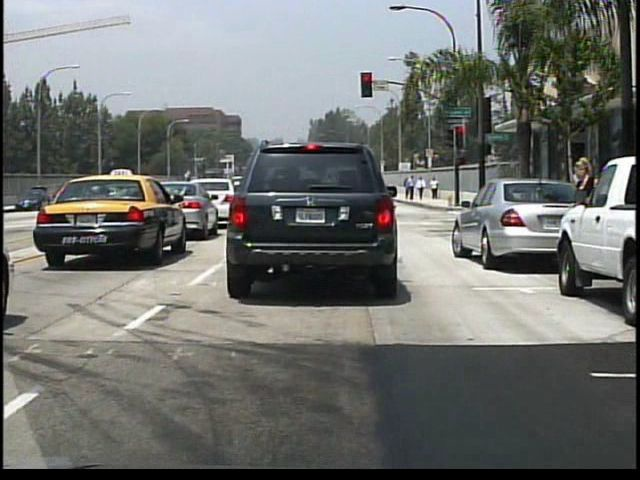person: (564, 152, 601, 271), (569, 163, 593, 229), (407, 174, 417, 200), (430, 175, 440, 201), (404, 176, 413, 200), (417, 175, 425, 201)
